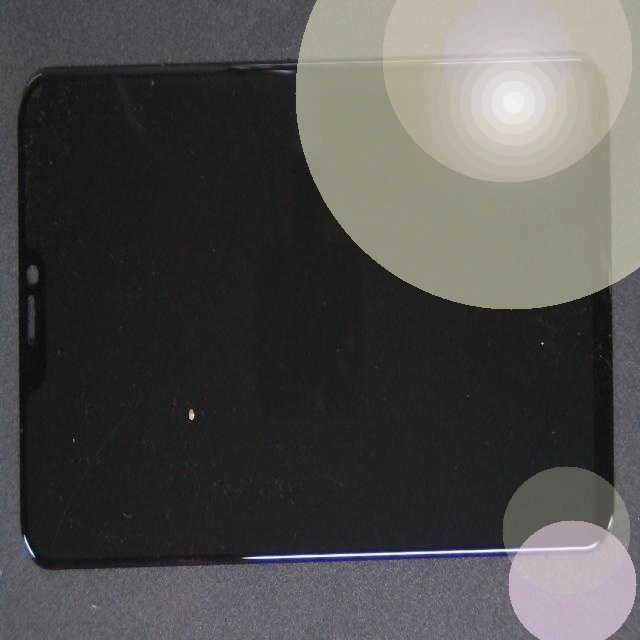stain: (125, 206, 297, 596)
